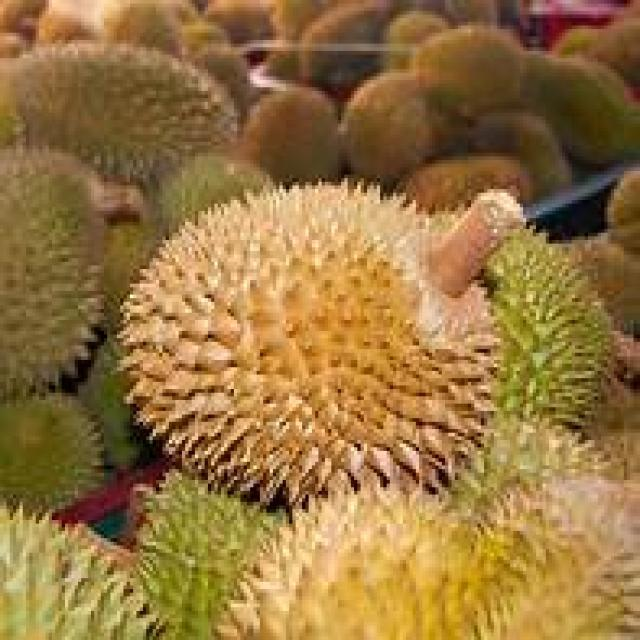mature: (121, 186, 498, 507)
